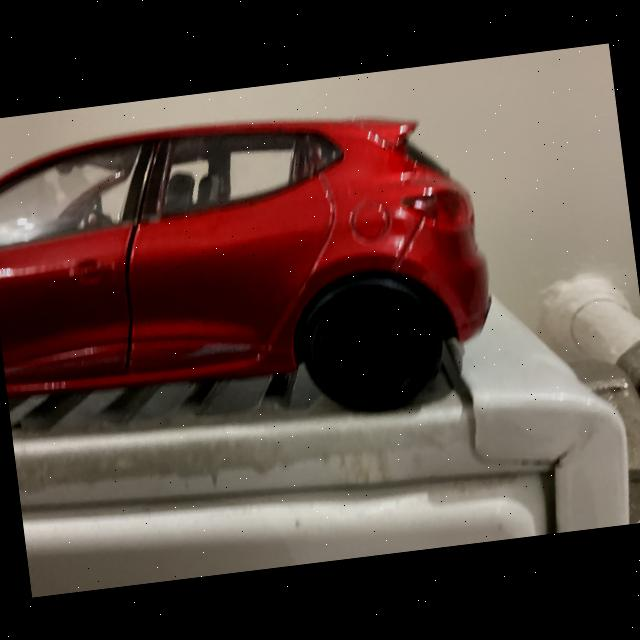Dogru_Jant: (307, 282, 436, 408)
